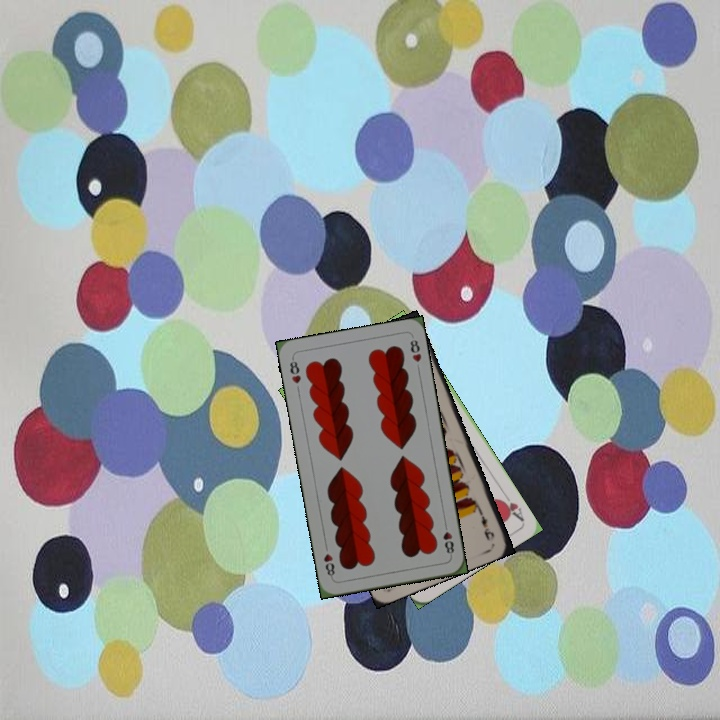E9: (474, 505, 497, 544)
H8: (439, 519, 456, 559), (286, 354, 304, 386)
HA: (496, 488, 527, 524)
